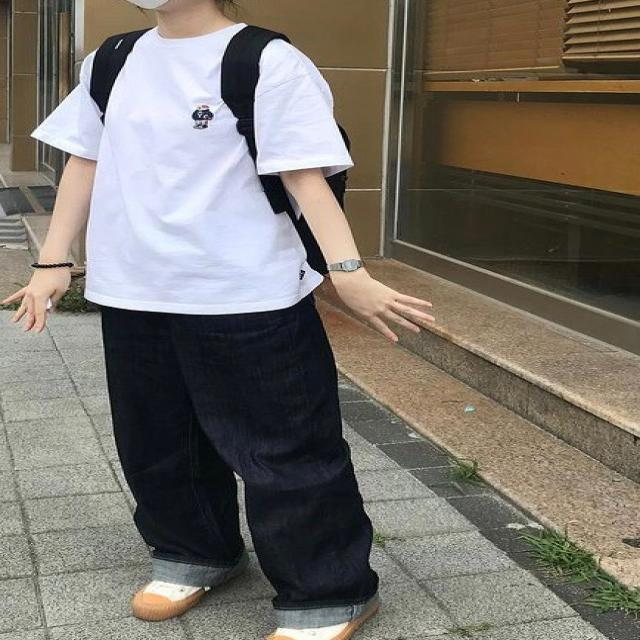denimpants: (103, 287, 380, 605)
shortsleeve: (30, 22, 351, 315)
